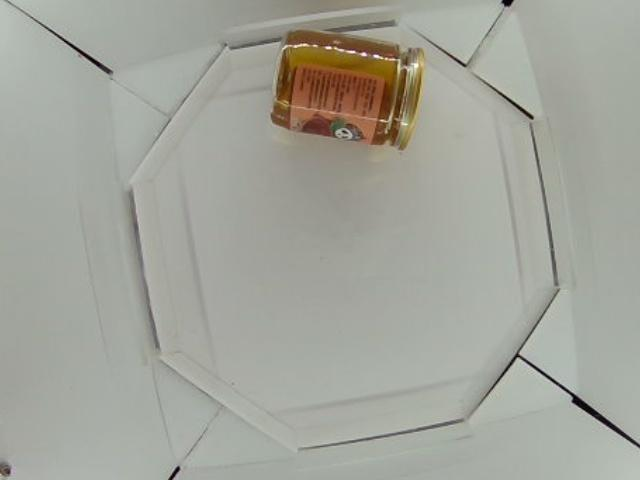Bottle: (270, 26, 427, 152)
